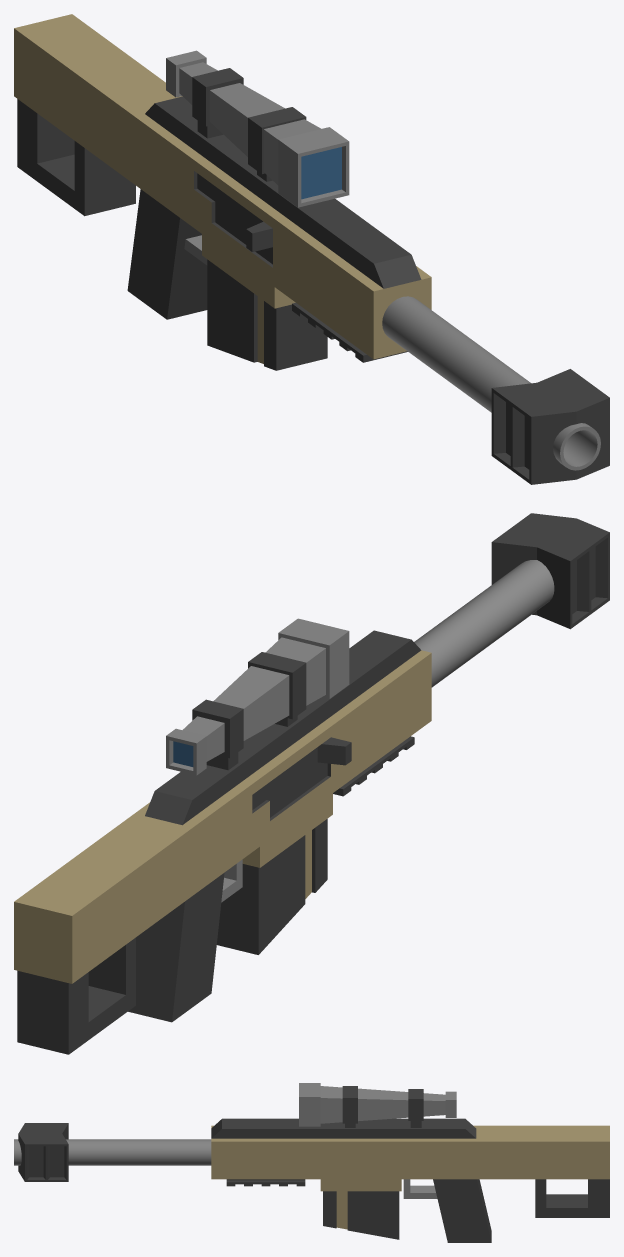
File: sniperCamo.fbx
3 views of the same model, one above another, from view 1: azimuth 30°, elevation 25°; view 2: azimuth 150°, elevation 25°; view 3: azimuth 270°, elevation 25° (orthographic). The views are drawn at different scales.
Visible parts, largest first — view 1: Mesh4_Group5 Group1 Model, Mesh2_Group3 Group1 Model, Mesh1_Group2 Group1 Model, Mesh3_Group4 Group1 Model; view 2: Mesh4_Group5 Group1 Model, Mesh2_Group3 Group1 Model, Mesh3_Group4 Group1 Model, Mesh1_Group2 Group1 Model; view 3: Mesh4_Group5 Group1 Model, Mesh2_Group3 Group1 Model, Mesh1_Group2 Group1 Model.
Boxes of the visible parts, bbox=[...] form: Mesh4_Group5 Group1 Model: bbox=[14, 14, 609, 484]; Mesh2_Group3 Group1 Model: bbox=[207, 259, 327, 370]; Mesh1_Group2 Group1 Model: bbox=[292, 302, 407, 362]; Mesh3_Group4 Group1 Model: bbox=[246, 221, 272, 251]; Mesh4_Group5 Group1 Model: bbox=[14, 513, 609, 1054]; Mesh2_Group3 Group1 Model: bbox=[217, 819, 327, 954]; Mesh3_Group4 Group1 Model: bbox=[317, 737, 351, 765]; Mesh1_Group2 Group1 Model: bbox=[333, 736, 414, 796]; Mesh4_Group5 Group1 Model: bbox=[14, 1083, 609, 1242]; Mesh2_Group3 Group1 Model: bbox=[323, 1191, 399, 1239]; Mesh1_Group2 Group1 Model: bbox=[226, 1179, 305, 1186].
Size of the model in its own units: 0.0156 by 0.0444 by 0.1632.
